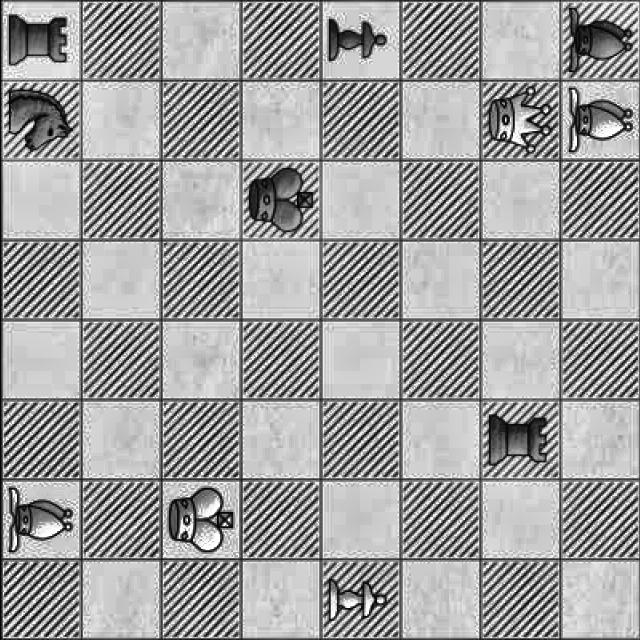Black Knight: (5, 85, 74, 159)
black bishop: (562, 6, 632, 68)
black king: (246, 168, 318, 239)
black pawn: (322, 14, 392, 70)
black rook: (2, 2, 76, 78), (483, 403, 553, 480)
white bishop: (2, 484, 74, 554), (562, 88, 633, 156)
white king: (160, 485, 237, 557)
white pawn: (325, 572, 397, 634)
white queen: (486, 85, 554, 156)
